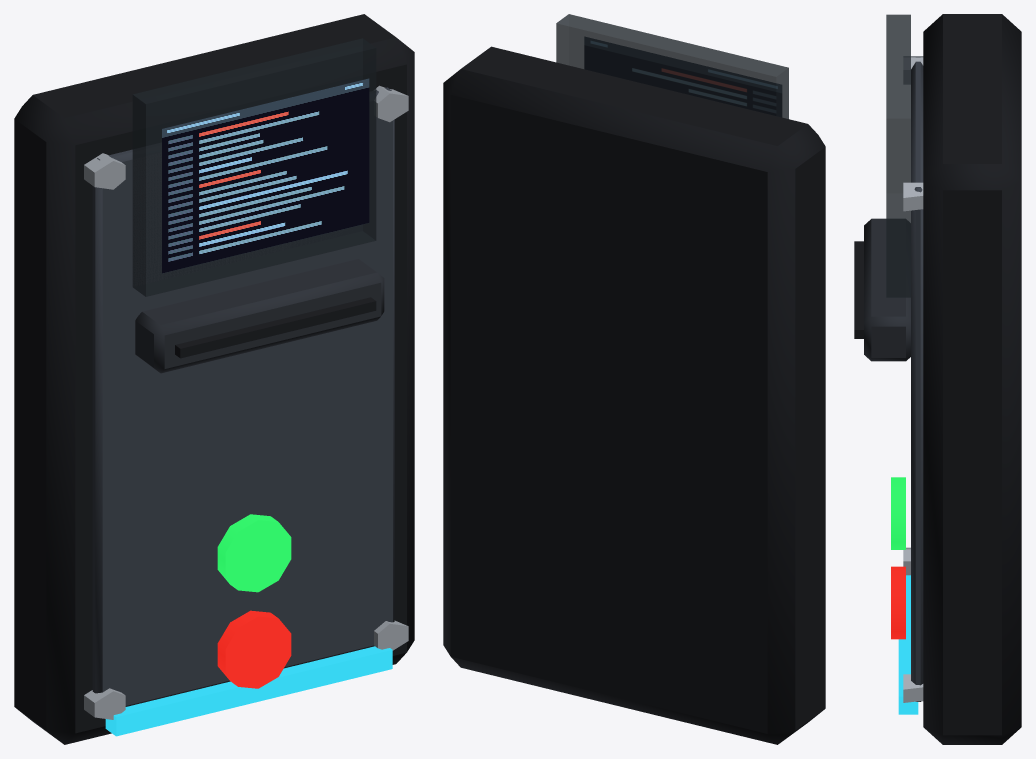
Rendered from controlpanel_card_reader.glb.
3 renders of one model, left to right at view 1: azimuth 30°, elevation 25°; view 2: azimuth 150°, elevation 25°; view 3: azimuth 270°, elevation 25°, orthographic. The views are drawn at different scales.
Parts seen in each view (by area): view 1: controlpanel_card_reader; view 2: controlpanel_card_reader; view 3: controlpanel_card_reader.
Part boxes in pixels (left/top/right/bottom): controlpanel_card_reader: left=14, top=14, right=414, bottom=744; controlpanel_card_reader: left=443, top=14, right=825, bottom=744; controlpanel_card_reader: left=854, top=14, right=1021, bottom=744.
Size of the model in its own units: 0.16 by 0.27 by 0.068.
Materials: 9 (1 with a texture image).
